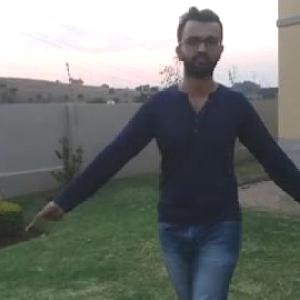land: (130, 67, 280, 279)
